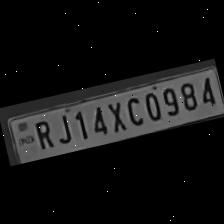0: (138, 88, 162, 122)
1: (67, 106, 91, 142)
4: (82, 100, 110, 137), (192, 73, 218, 108)
8: (174, 77, 200, 112)
9: (156, 82, 181, 118)
C: (120, 92, 144, 128)
J: (49, 110, 74, 146)
R: (27, 114, 55, 151)
X: (102, 97, 127, 134)
